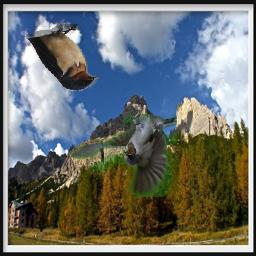Swallow: (71, 113, 177, 197), (27, 25, 100, 92)
